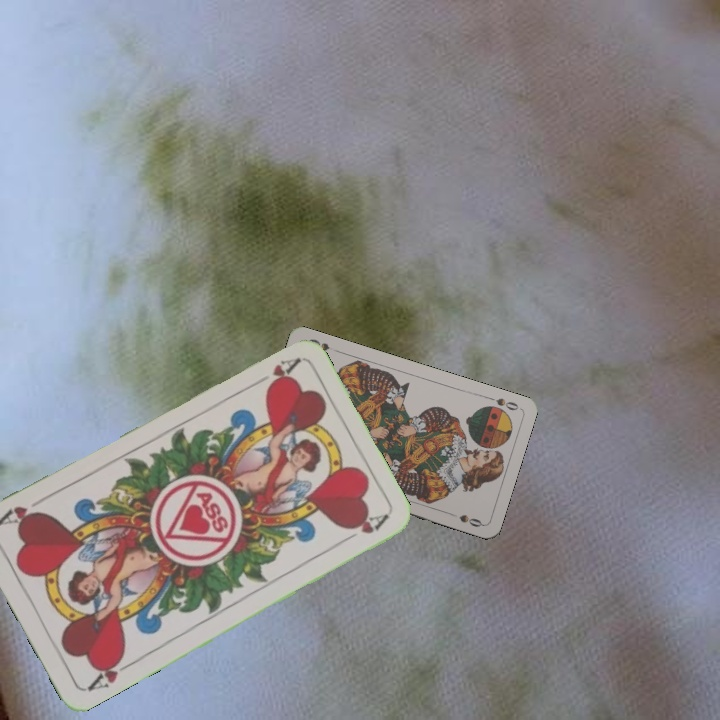HA: (83, 650, 137, 695), (247, 354, 302, 390)
SO: (483, 392, 521, 413)
